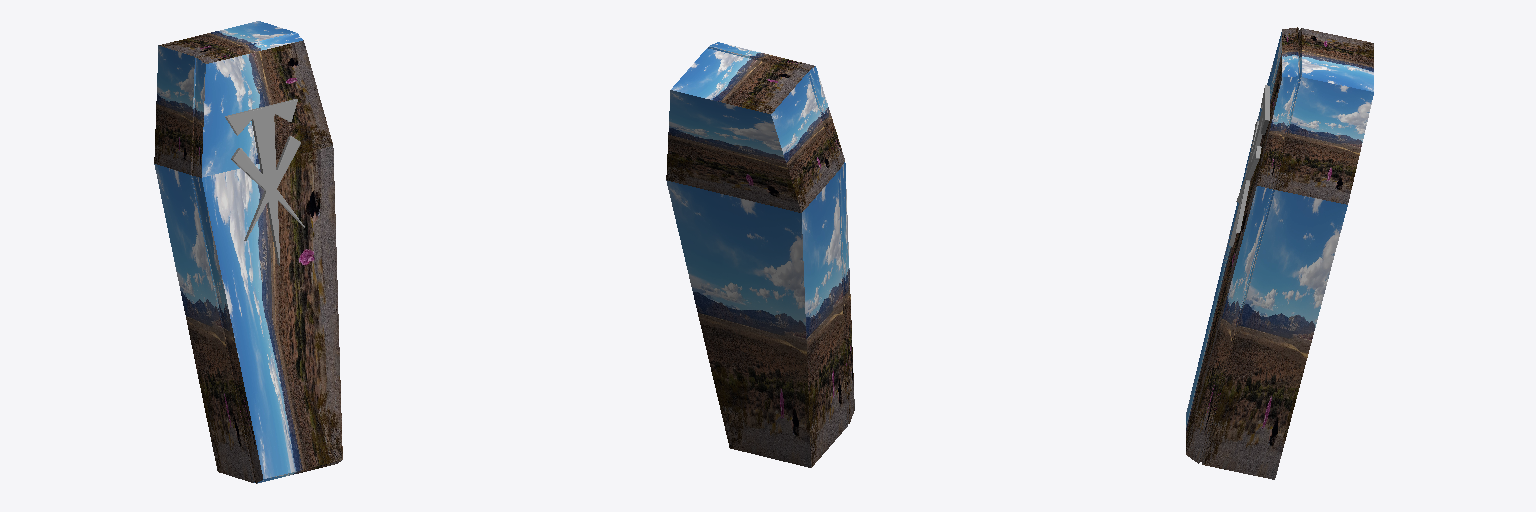
3 views of the same model, side by side, from view 1: azimuth 30°, elevation 25°; view 2: azimuth 150°, elevation 25°; view 3: azimuth 270°, elevation 25° (orthographic).
Parts seen in each view (by area): view 1: coffin_Cube.002_Material.003, symbol_Cube.001; view 2: coffin_Cube.002_Material.003; view 3: coffin_Cube.002_Material.003, symbol_Cube.001.
Boxes of the visible parts, box(x1,y1,x2,y2) form: coffin_Cube.002_Material.003: box(154, 21, 342, 483); symbol_Cube.001: box(225, 99, 304, 265); coffin_Cube.002_Material.003: box(666, 42, 854, 467); coffin_Cube.002_Material.003: box(1186, 27, 1373, 479); symbol_Cube.001: box(1229, 85, 1269, 246).
Bounding box in the file's own units: 2.69 × 7.75 × 3.25.
2 materials, 1 textured.